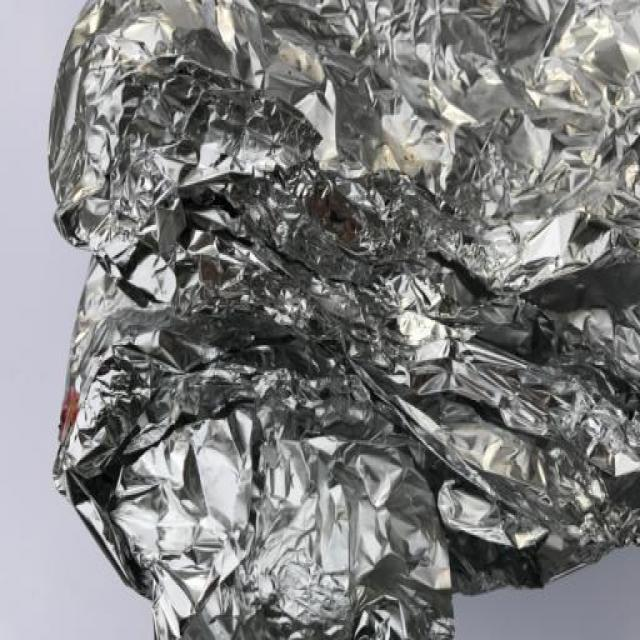metel: (37, 1, 640, 640)
